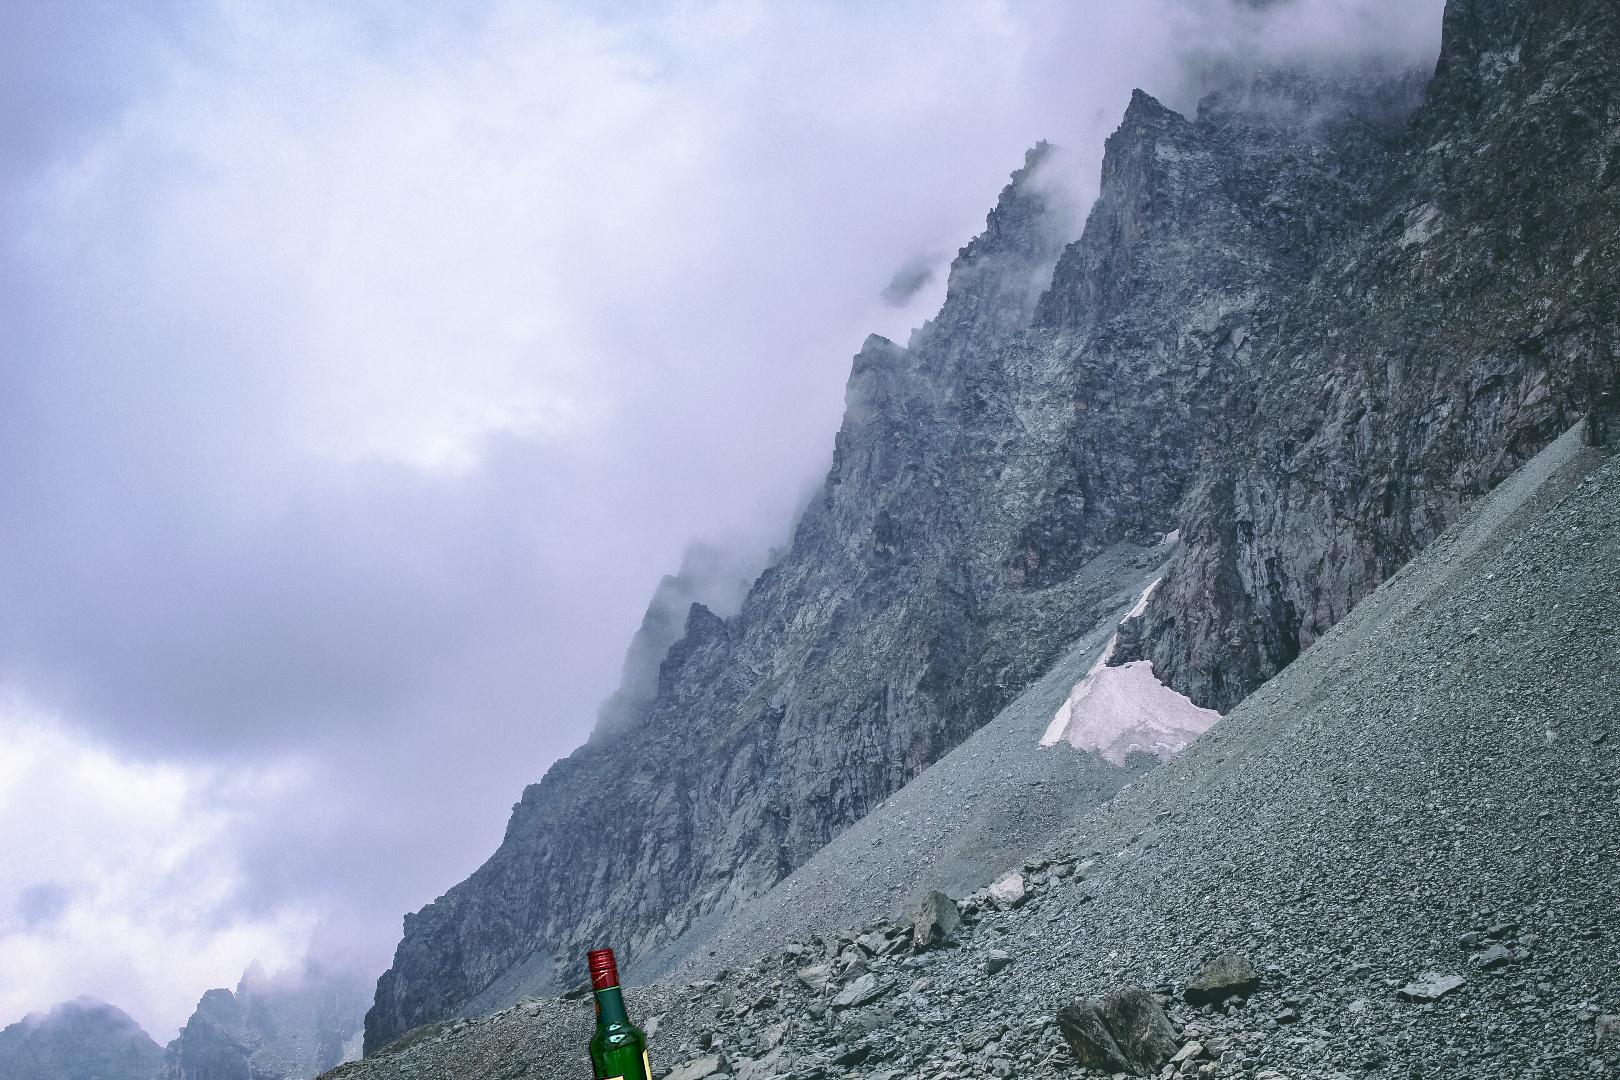glass: (582, 918, 974, 1080)
